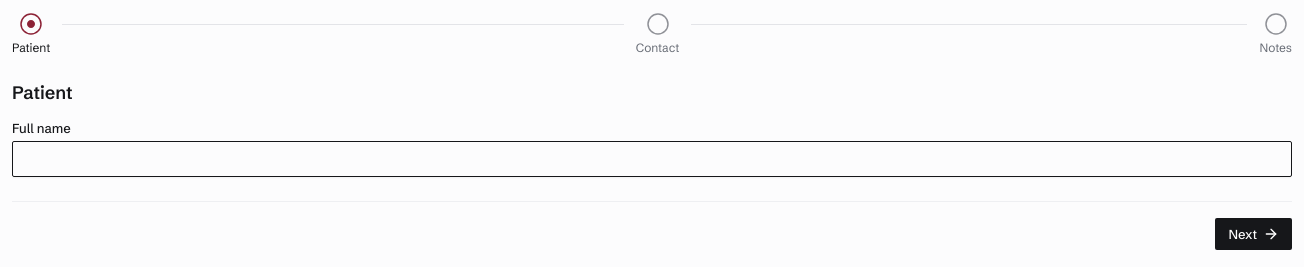
it: FormWizard announcements › stays silent until the wizard moves, even in StrictMode
Step 1. Type "Sara" into the field labelled "Full name" → (652, 159), box top-left (12, 141), bottom-right (1292, 177)
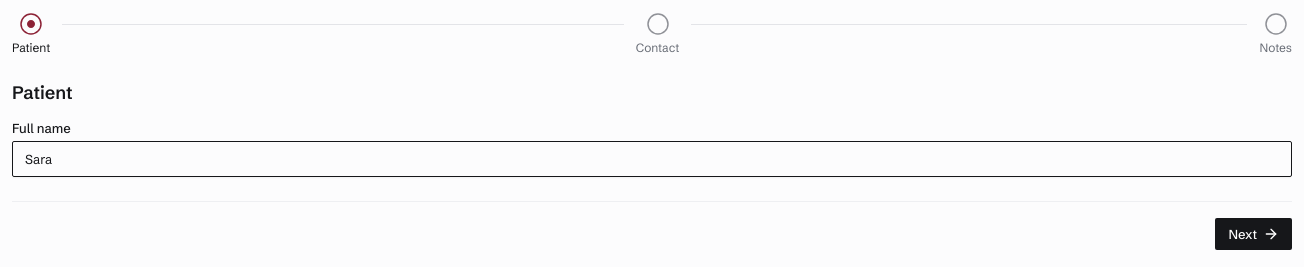
Step 2. Click the button named "Next" → (1254, 234), box top-left (1215, 218), bottom-right (1292, 250)
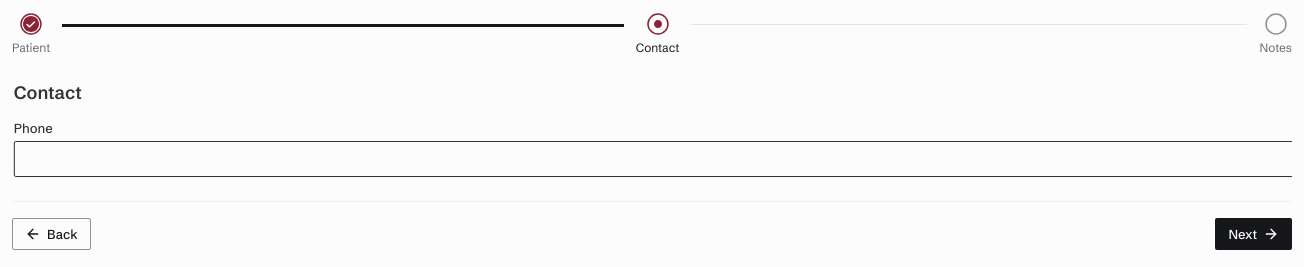
Expected: the heading "Contact" is shown, top-left (13, 80), bottom-right (81, 106)
